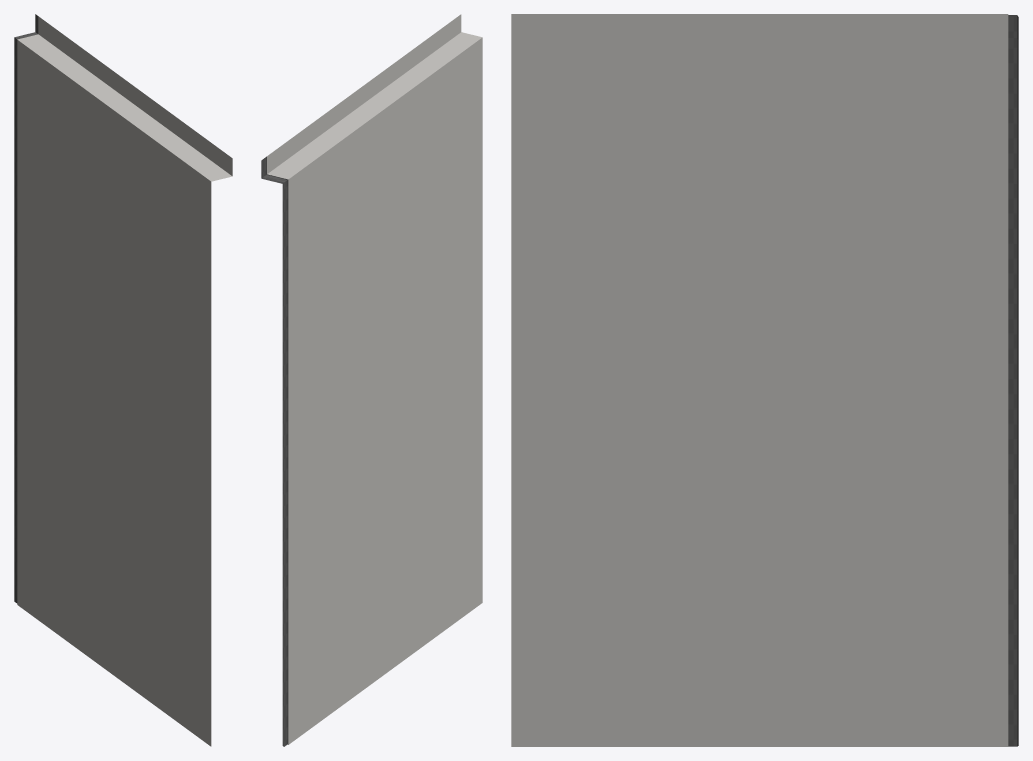
The model's file is SM_Living_Wall_02.obj.
3 views of the same model, side by side, from view 1: azimuth 30°, elevation 25°; view 2: azimuth 150°, elevation 25°; view 3: azimuth 270°, elevation 25° (orthographic). The views are drawn at different scales.
Parts seen in each view (by area): view 1: SM_Living_Wall_02; view 2: SM_Living_Wall_02; view 3: SM_Living_Wall_02.
Part boxes in pixels (<box>): SM_Living_Wall_02: <box>14,14,232,746</box>; SM_Living_Wall_02: <box>261,14,482,746</box>; SM_Living_Wall_02: <box>511,14,1018,746</box>.
Bounding box in the file's own units: 0.2046 × 4.97 × 3.06.
2 materials, 1 textured.
